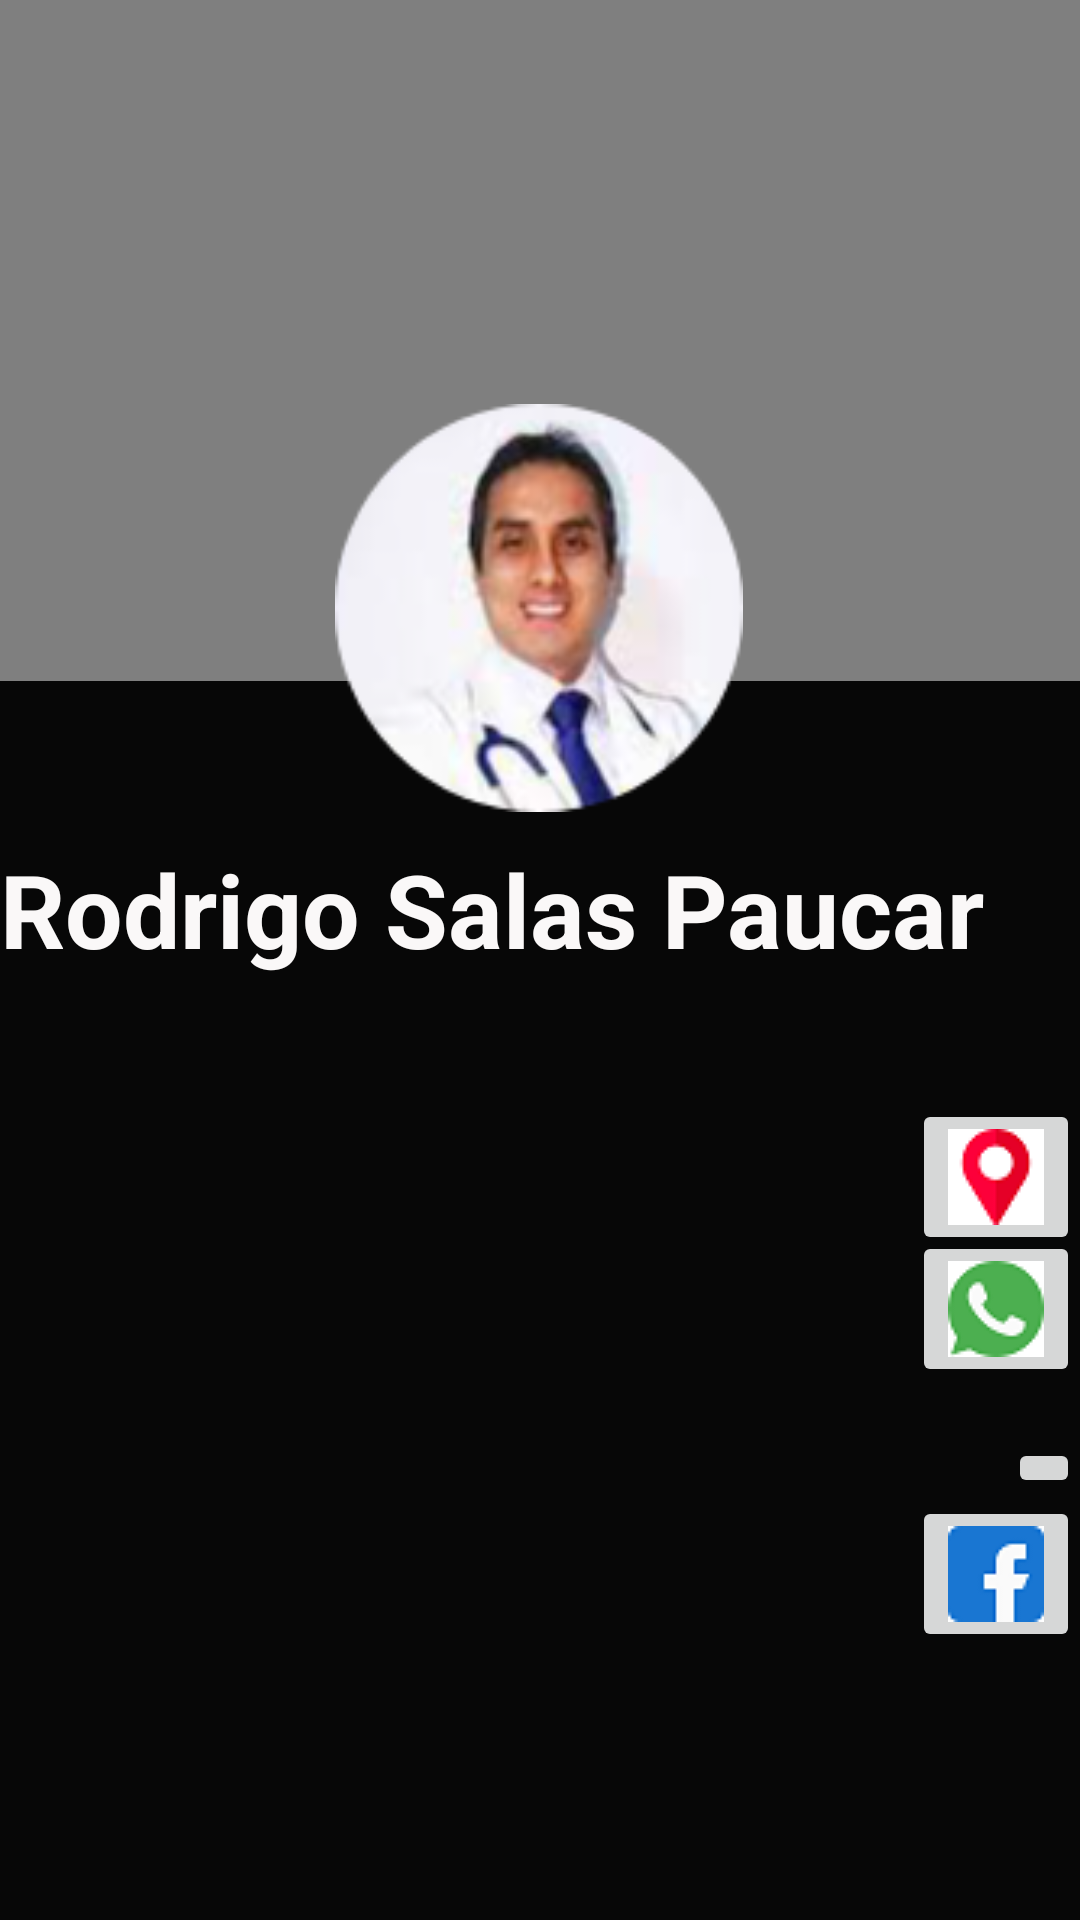

Icons on this 1080w x 1920h Android screen, each with the point to tap as (x,y):
ubicacion: (996,1177)
